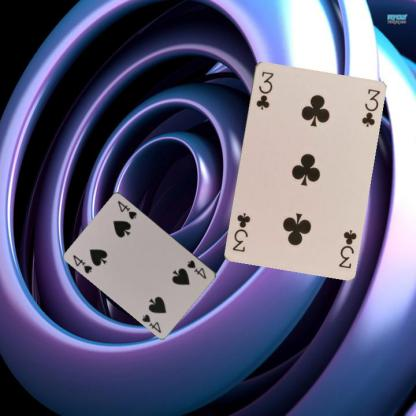3c: (336, 226, 358, 270), (253, 68, 275, 111)
4s: (185, 257, 208, 280), (70, 252, 93, 275)
